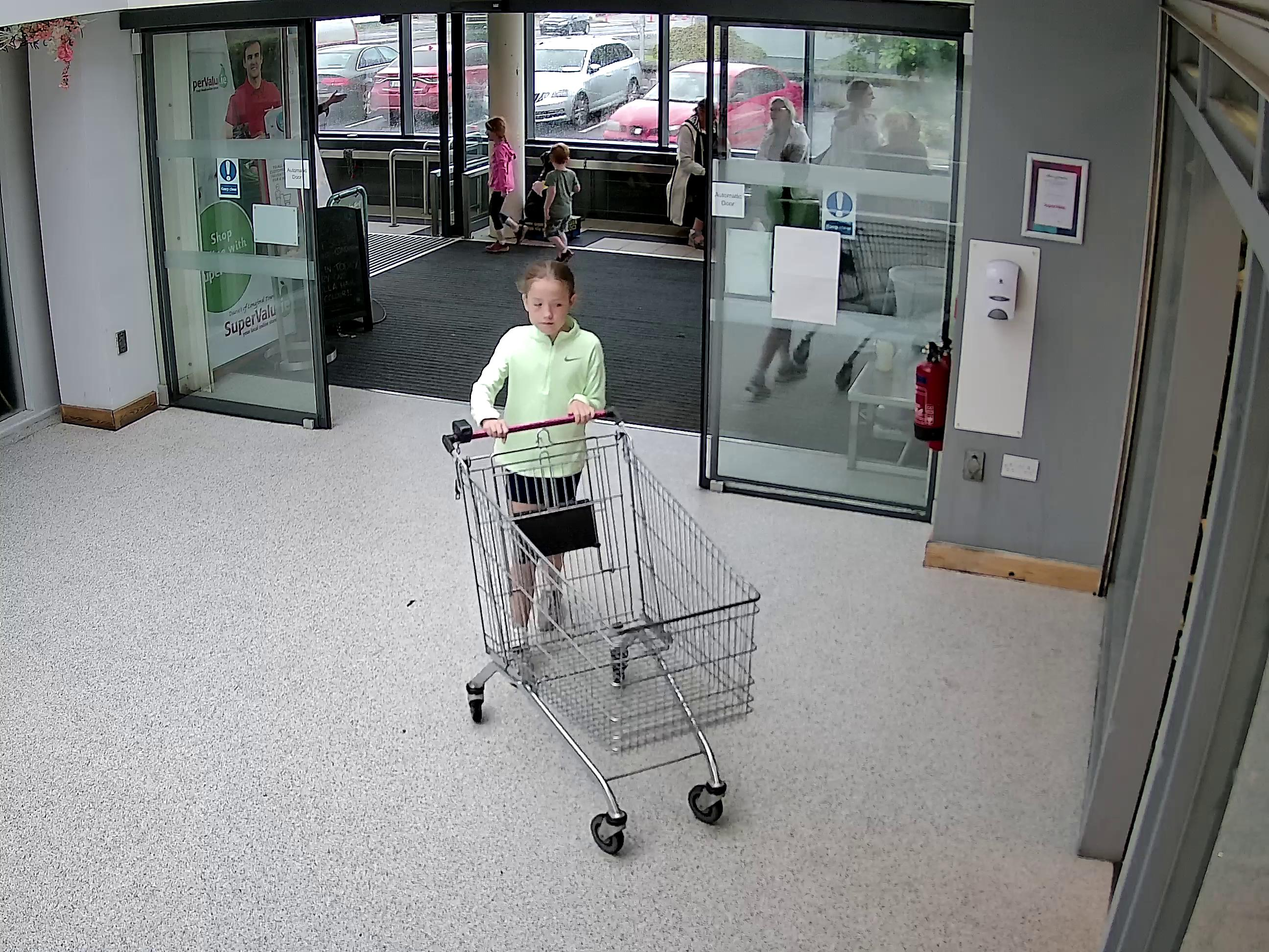empty-trolly: (439, 403, 761, 855)
person: (470, 257, 608, 632)
person-with-empty-basket-trolly: (441, 256, 763, 858)
